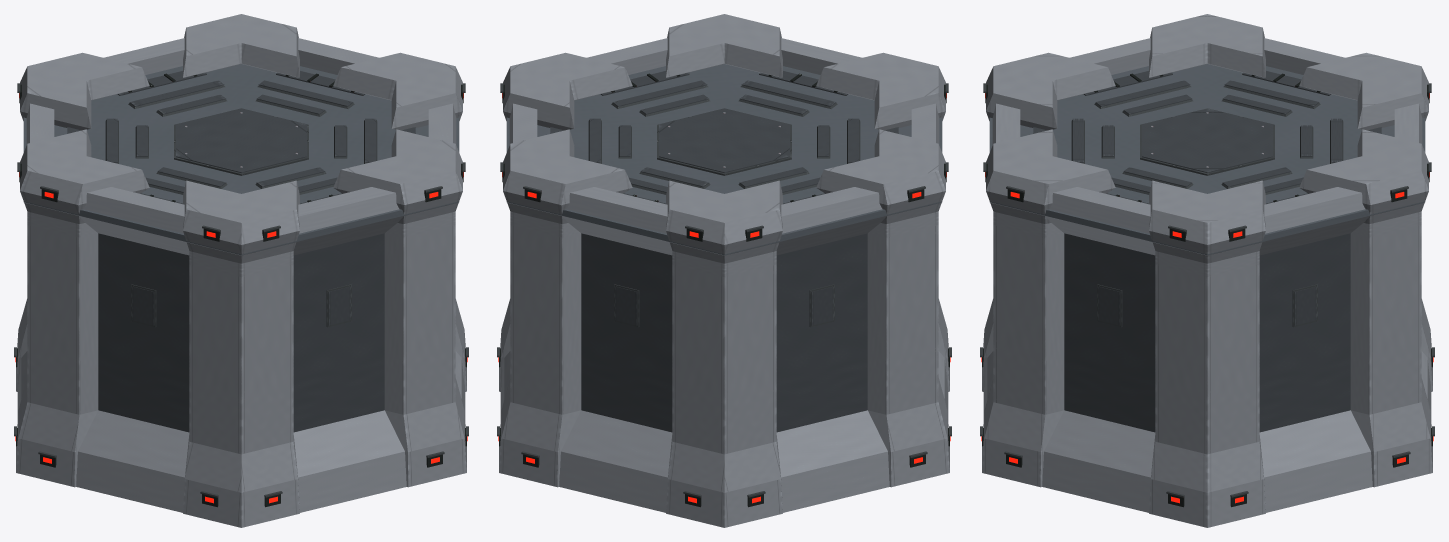
Rendered from pier.glb.
3 views of the same model, side by side, from view 1: azimuth 30°, elevation 25°; view 2: azimuth 150°, elevation 25°; view 3: azimuth 270°, elevation 25° (orthographic).
Parts seen in each view (by area): view 1: pier-lod0-roof0, pier-lod0-base0, pier-lod0-floor0; view 2: pier-lod0-roof0, pier-lod0-base0, pier-lod0-floor0; view 3: pier-lod0-roof0, pier-lod0-base0, pier-lod0-floor0.
Boxes of the visible parts, x1=… form: pier-lod0-roof0: x1=17, y1=14, x2=465, y2=277; pier-lod0-base0: x1=14, y1=299, x2=468, y2=527; pier-lod0-floor0: x1=27, y1=225, x2=455, y2=399; pier-lod0-roof0: x1=500, y1=14, x2=948, y2=277; pier-lod0-base0: x1=497, y1=299, x2=951, y2=527; pier-lod0-floor0: x1=510, y1=225, x2=938, y2=399; pier-lod0-roof0: x1=983, y1=14, x2=1431, y2=277; pier-lod0-base0: x1=980, y1=299, x2=1434, y2=527; pier-lod0-floor0: x1=993, y1=225, x2=1421, y2=399.
Size of what is drawn, in the model's own units: 69.28 by 44 by 60.56.
Materials: 6 (6 with a texture image).
